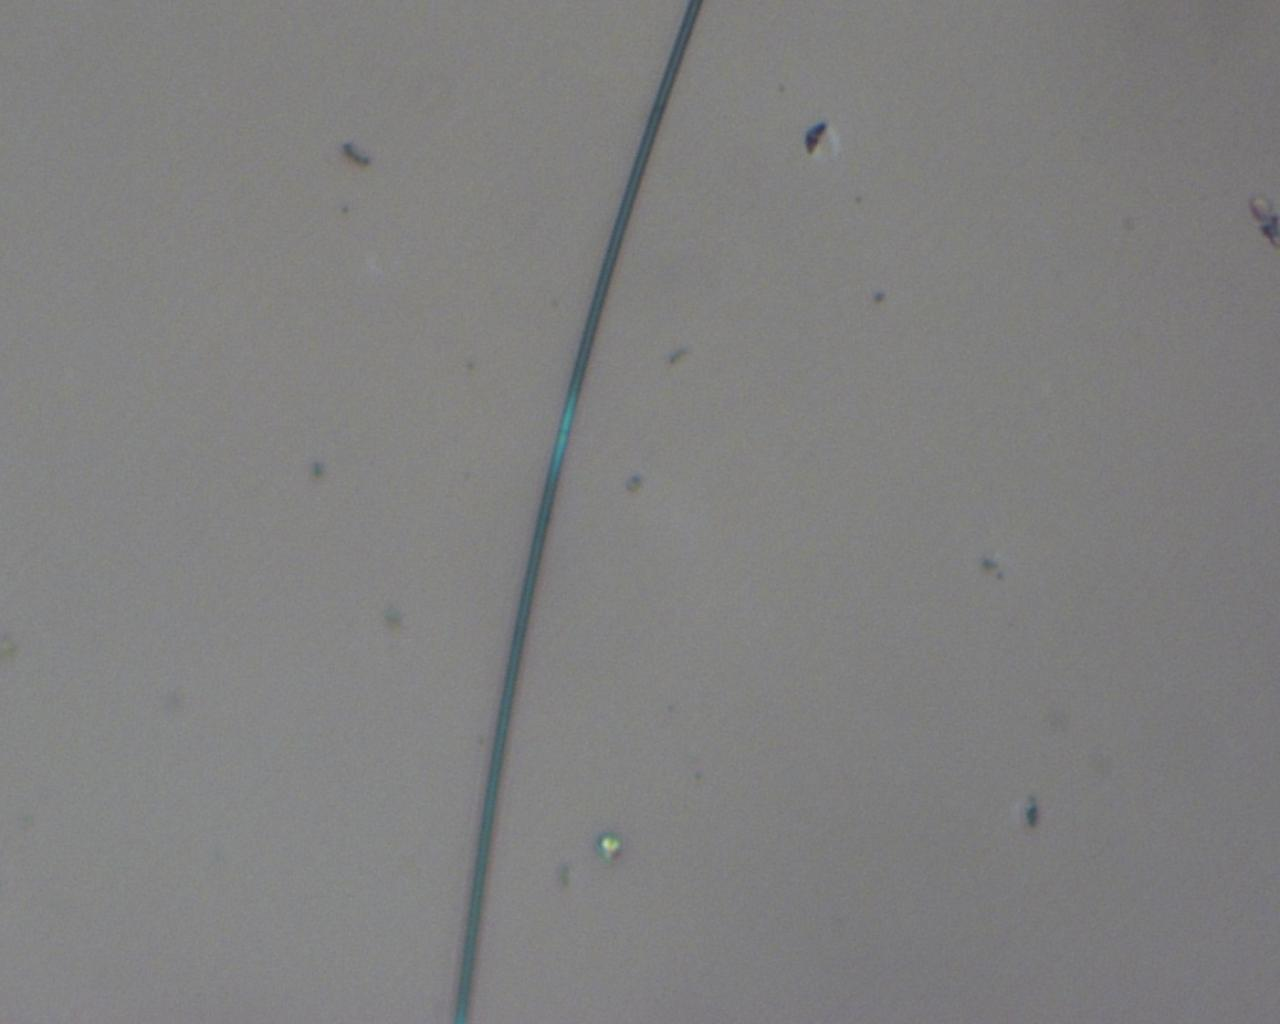fiber: (139, 0, 499, 512), (499, 179, 1256, 323), (499, 512, 706, 1024), (0, 566, 499, 707)
